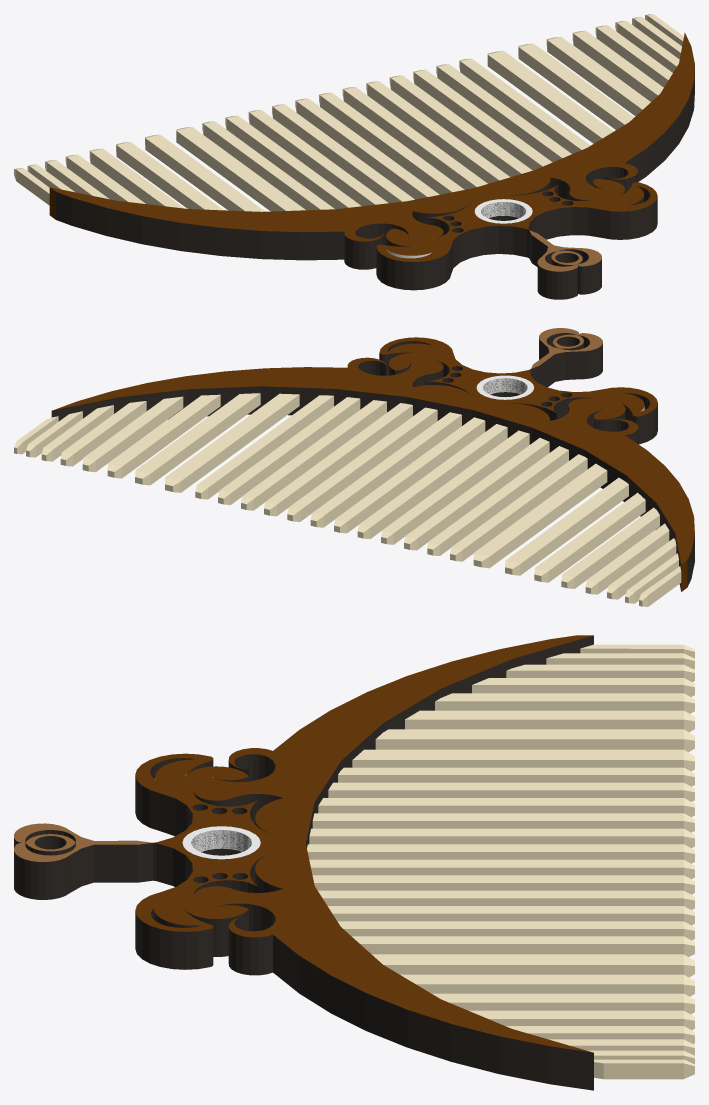
3 views of the same model, one above another, from view 1: azimuth 30°, elevation 25°; view 2: azimuth 150°, elevation 25°; view 3: azimuth 270°, elevation 25° (orthographic). The views are drawn at different scales.
Parts seen in each view (by area): view 1: comb; view 2: comb; view 3: comb.
Part boxes in pixels (x1,y1,x2,y2): comb: (14,14,694,299); comb: (14,328,694,606); comb: (14,635,694,1090).
Bounding box in the file's own units: 214 × 9.03 × 147.
